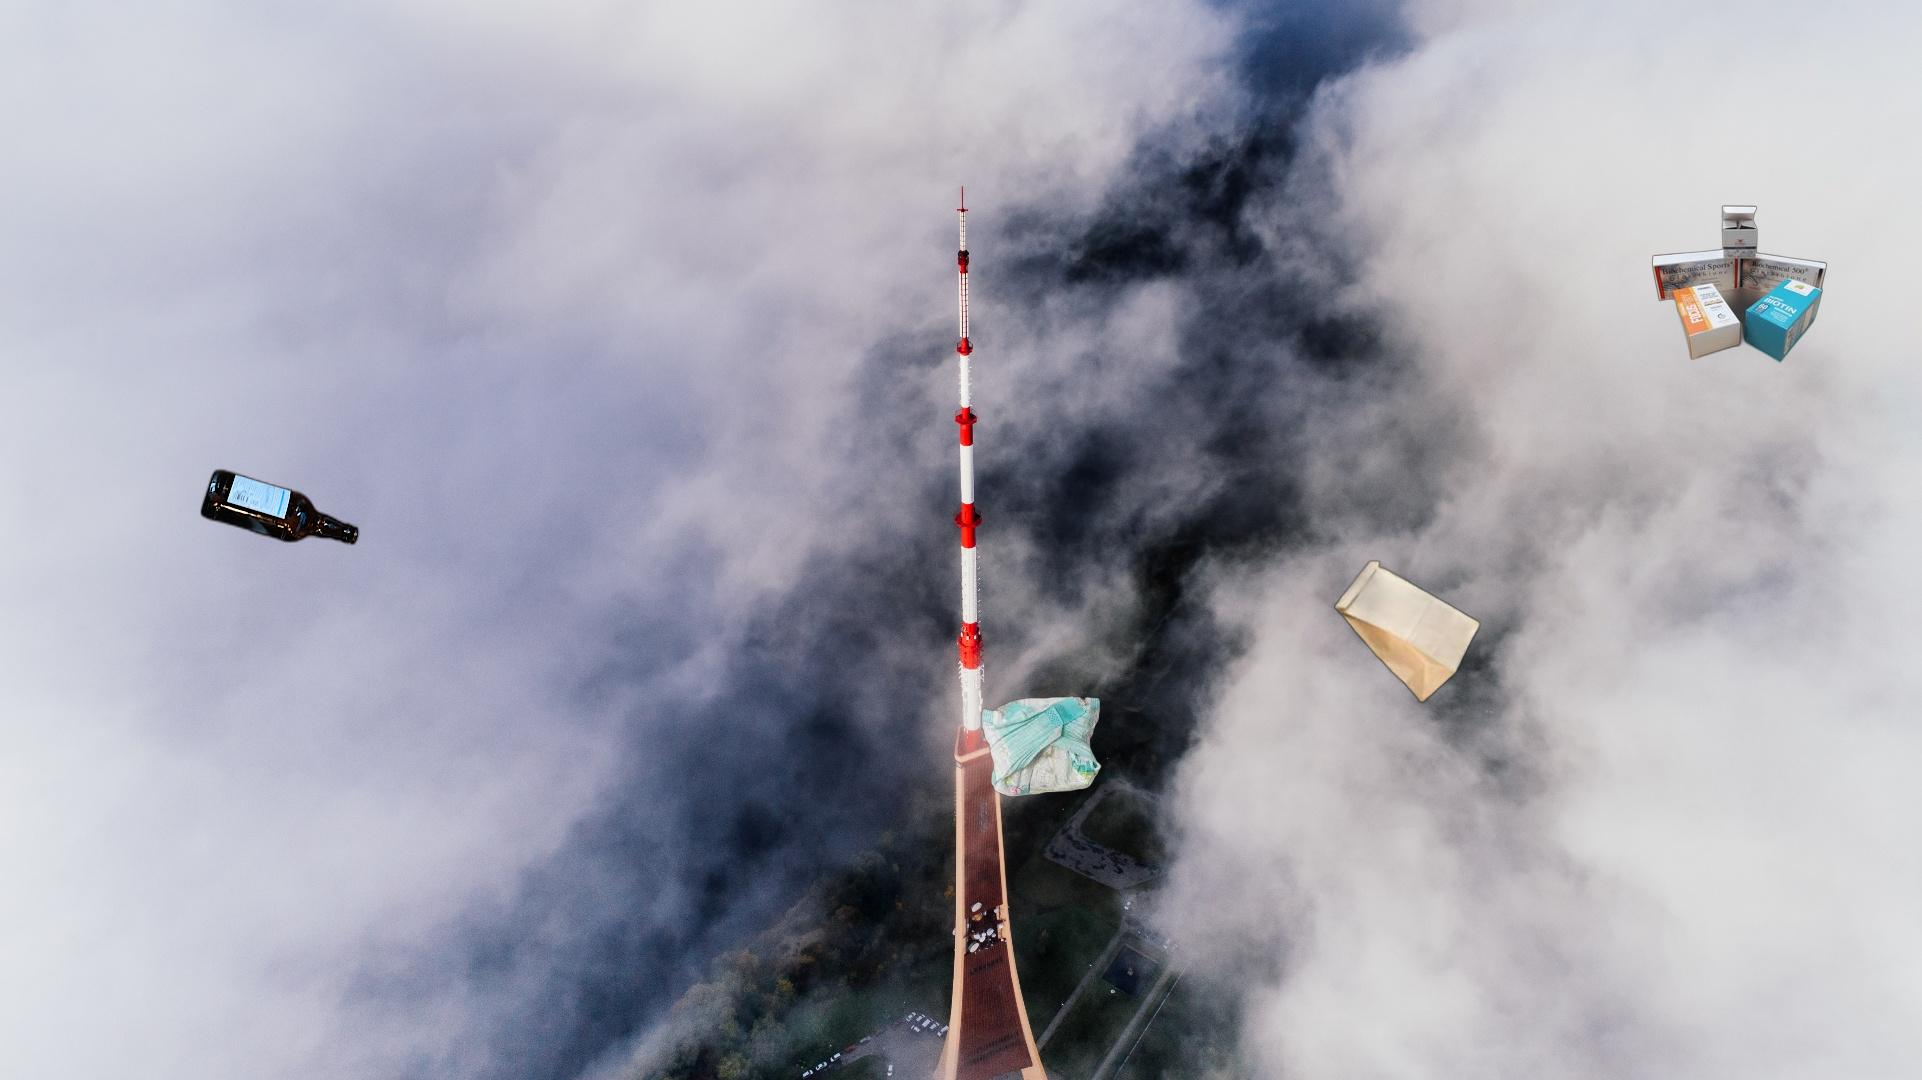glass: (196, 465, 363, 551)
paper-bag: (1219, 430, 1510, 710)
trash: (979, 693, 1104, 800)
trashbox-cardboard: (1649, 203, 1830, 365)
